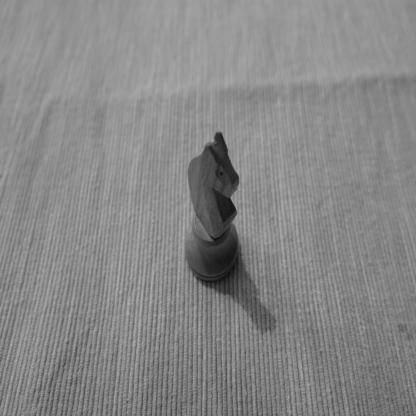white-knight: (184, 131, 240, 283)
